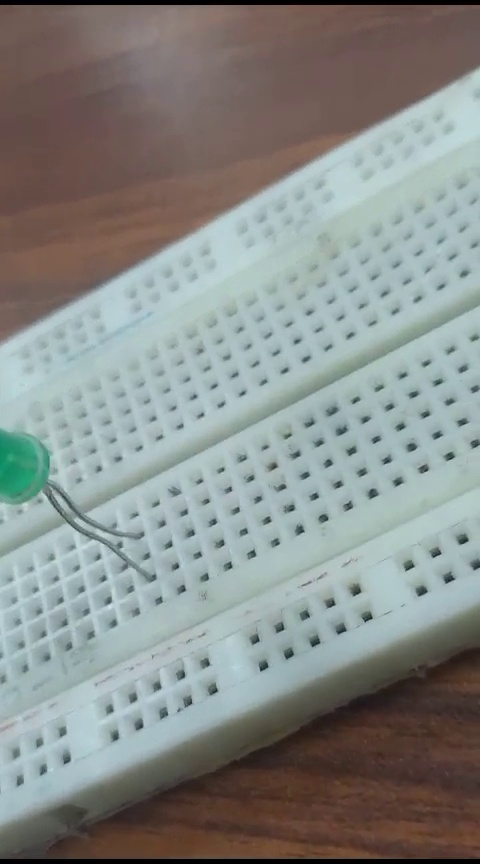LED: (4, 423, 175, 588)
